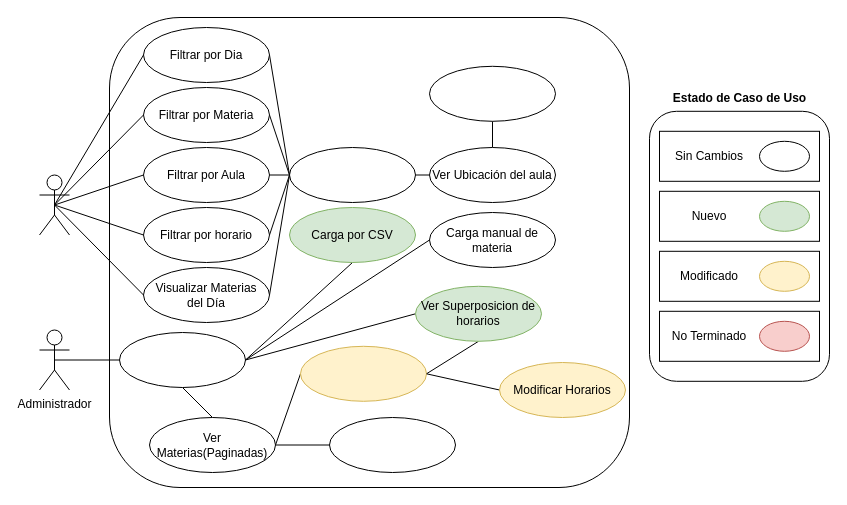
The diagram is 847 pixels wide and 505 high, and some of its shapes have lost their labels. The shapes that lost their labels are listed below. From the top down, each one's centre as x and y in pixels, then its label:
pixel 492 93: Ver/Elegir ruta al aula
pixel 352 174: Ver Materias Filtradas
pixel 54 204: Estudiante
pixel 182 360: Login
pixel 363 373: Modificar Comision
pixel 392 444: Modificar materia
